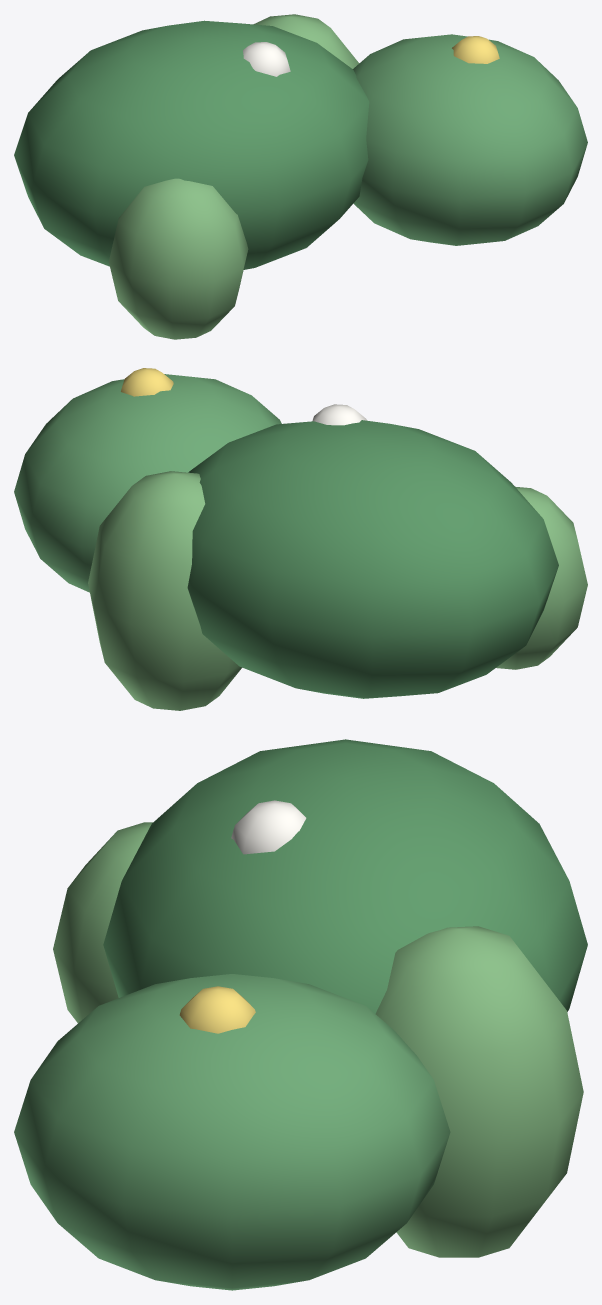
File: CoastalVegetationA.fbx
The picture shows the model from 3 angles, top to bottom: view 1: azimuth 30°, elevation 25°; view 2: azimuth 150°, elevation 25°; view 3: azimuth 270°, elevation 25°; orthographic projection. The views are drawn at different scales.
Visible parts, largest first — view 1: CoastalVegetationA; view 2: CoastalVegetationA; view 3: CoastalVegetationA.
Boxes of the visible parts, x1,y1,x2,y2 form: CoastalVegetationA: (14, 14, 587, 339); CoastalVegetationA: (14, 368, 587, 710); CoastalVegetationA: (14, 739, 587, 1290).
Size of the model in its own units: 1.23 by 0.598 by 0.81.
